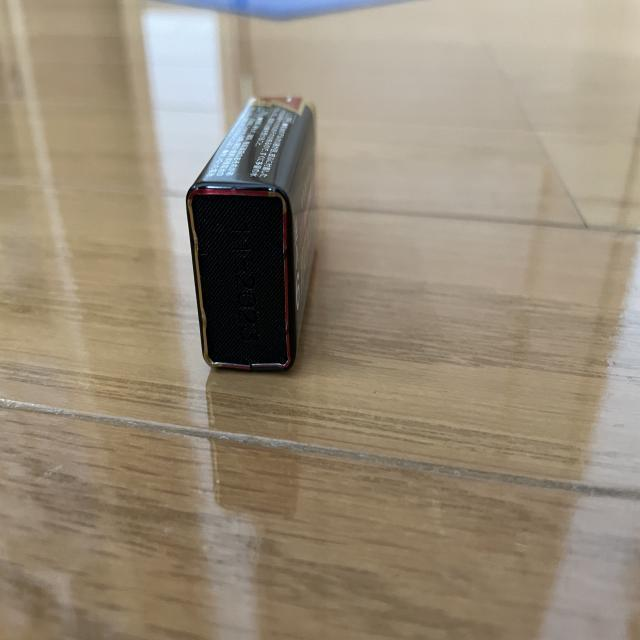9V: (184, 93, 322, 374)
